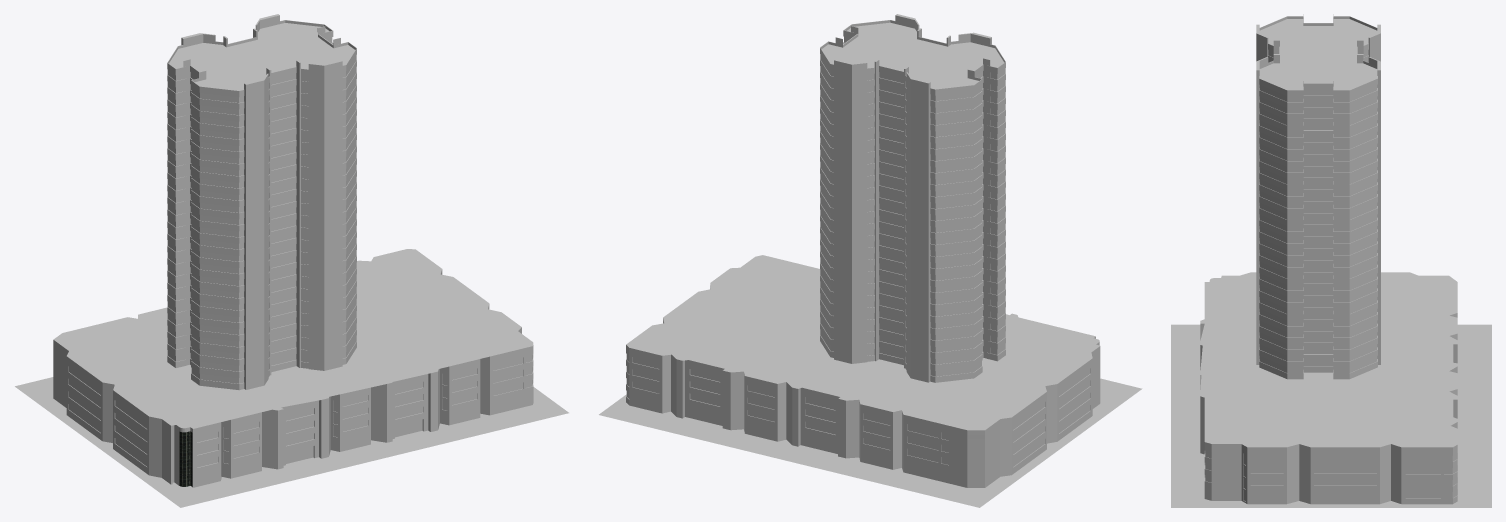
3 renders of one model, left to right at view 1: azimuth 30°, elevation 25°; view 2: azimuth 150°, elevation 25°; view 3: azimuth 270°, elevation 25°, orthographic. The views are drawn at different scales.
Visible parts, largest first — view 1: M-017; view 2: M-017; view 3: M-017.
Part boxes in pixels (x1,y1,x2,y2): M-017: [15, 14, 568, 507]; M-017: [599, 14, 1142, 507]; M-017: [1171, 14, 1491, 507].
Size of what is drawn, in the model's own units: 97.35 by 87.08 by 72.
